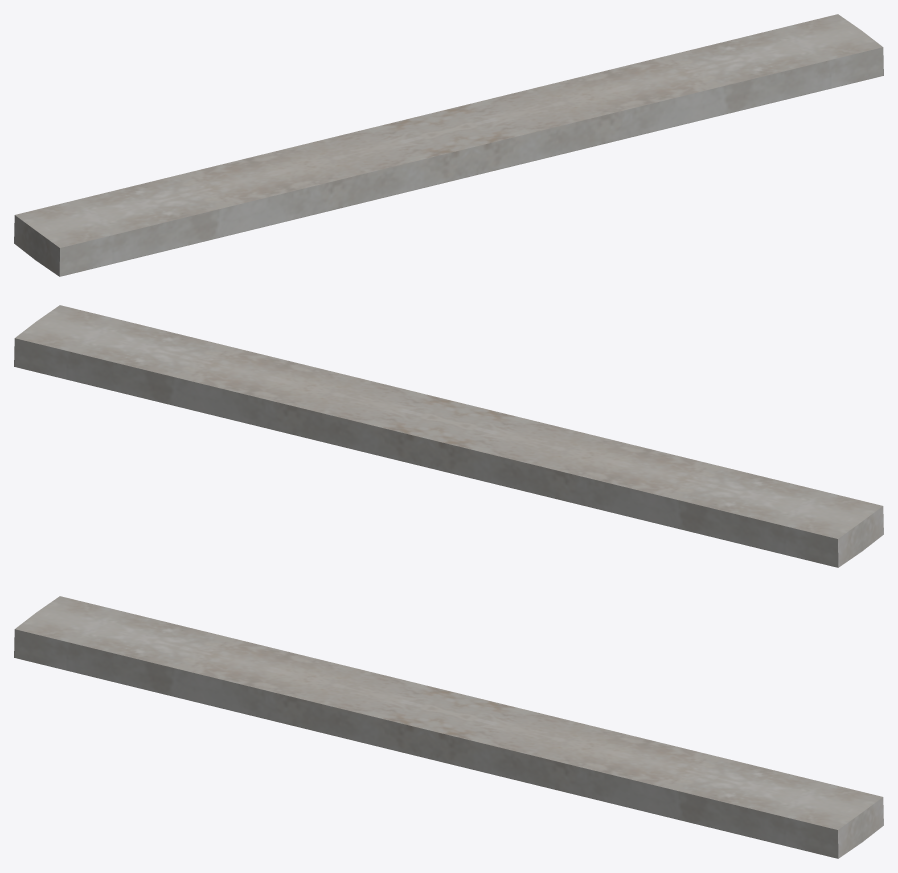
The model's file is Ceiling_Light_20191205_01.FBX.
The picture shows the model from 3 angles, top to bottom: view 1: azimuth 30°, elevation 25°; view 2: azimuth 150°, elevation 25°; view 3: azimuth 330°, elevation 25°; orthographic projection.
Visible parts, largest first — view 1: Ceiling_Light; view 2: Ceiling_Light; view 3: Ceiling_Light.
Part boxes in pixels (left/top/right/bottom): Ceiling_Light: left=14, top=14, right=883, bottom=276; Ceiling_Light: left=14, top=305, right=883, bottom=567; Ceiling_Light: left=14, top=596, right=883, bottom=858.
Size of the model in its own units: 93.36 by 4.16 by 8.94.
